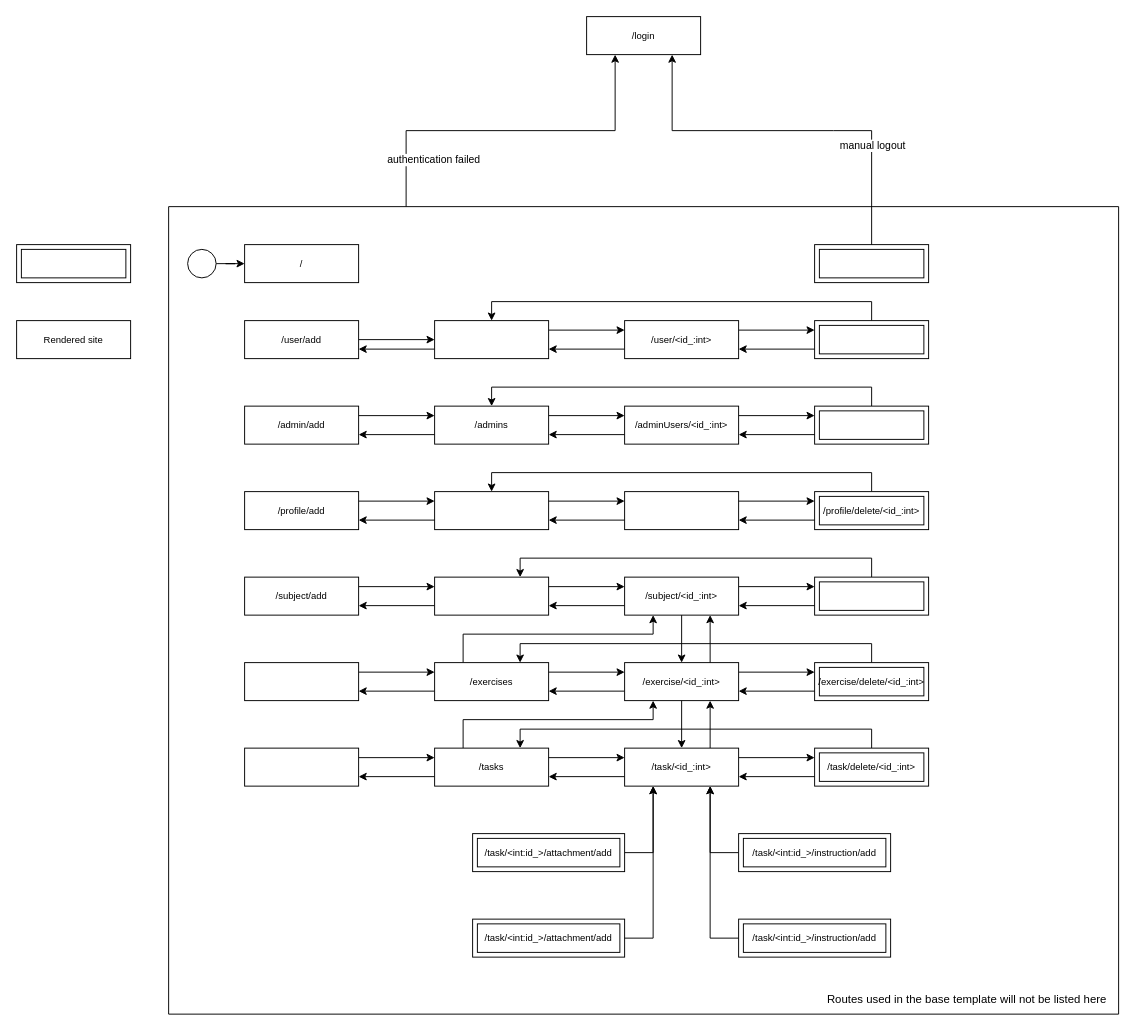
Image size: 1135x1031. Some labels were removed from this diagram. Each missing label, with the centre of its shape:
"/admin/delete/<id_:int>" belongs at pixel 871 424.
"/exercise/add" belongs at pixel 301 681.
"/logout" belongs at pixel 871 263.
"/profile/<id_:int>" belongs at pixel 681 510.
"/profiles" belongs at pixel 491 510.
"/subject/delete/<id_:int>" belongs at pixel 871 595.
"/subjects" belongs at pixel 491 595.
"/task/add" belongs at pixel 301 766.
"/user/delete/<id_:int>" belongs at pixel 871 339.
"/users" belongs at pixel 491 339.
"no Rendered site" belongs at pixel 73 263.
